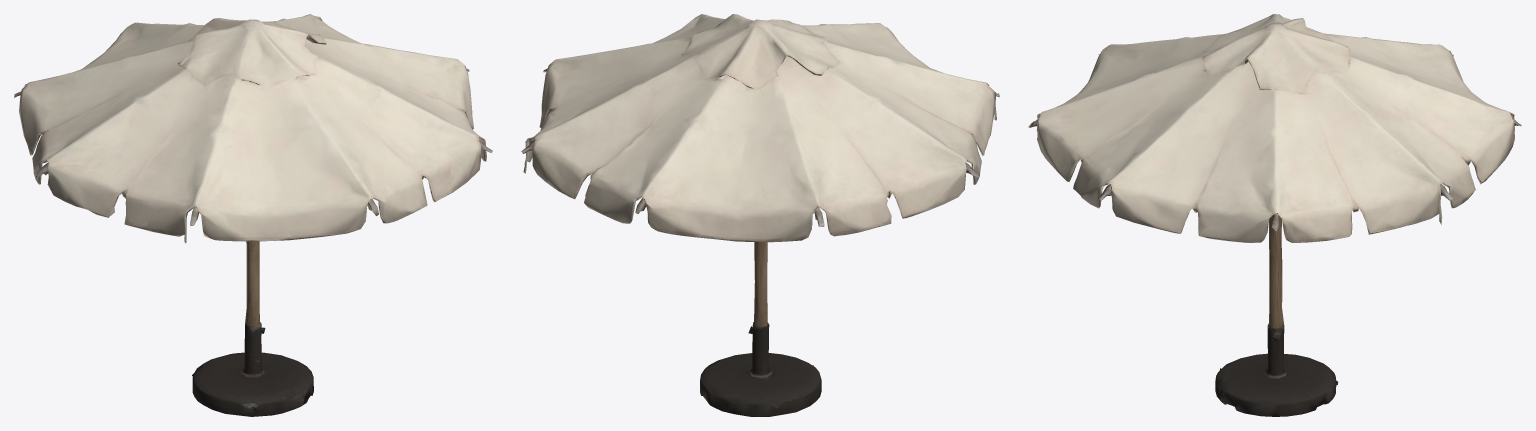
Rendered from market_umbrella.glb.
The picture shows the model from 3 angles, left to right: view 1: azimuth 30°, elevation 25°; view 2: azimuth 150°, elevation 25°; view 3: azimuth 270°, elevation 25°; orthographic projection.
Parts seen in each view (by area): view 1: tripo_node_e7de65ba-c0f2-482c-a880-8b40261856ca; view 2: tripo_node_e7de65ba-c0f2-482c-a880-8b40261856ca; view 3: tripo_node_e7de65ba-c0f2-482c-a880-8b40261856ca.
Part boxes in pixels (bbox=[...]): tripo_node_e7de65ba-c0f2-482c-a880-8b40261856ca: bbox=[14, 14, 492, 416]; tripo_node_e7de65ba-c0f2-482c-a880-8b40261856ca: bbox=[521, 14, 999, 416]; tripo_node_e7de65ba-c0f2-482c-a880-8b40261856ca: bbox=[1028, 14, 1521, 416].
Bounding box in the file's own units: 1 × 0.8164 × 0.9956.
Materials: 1 (1 with a texture image).
